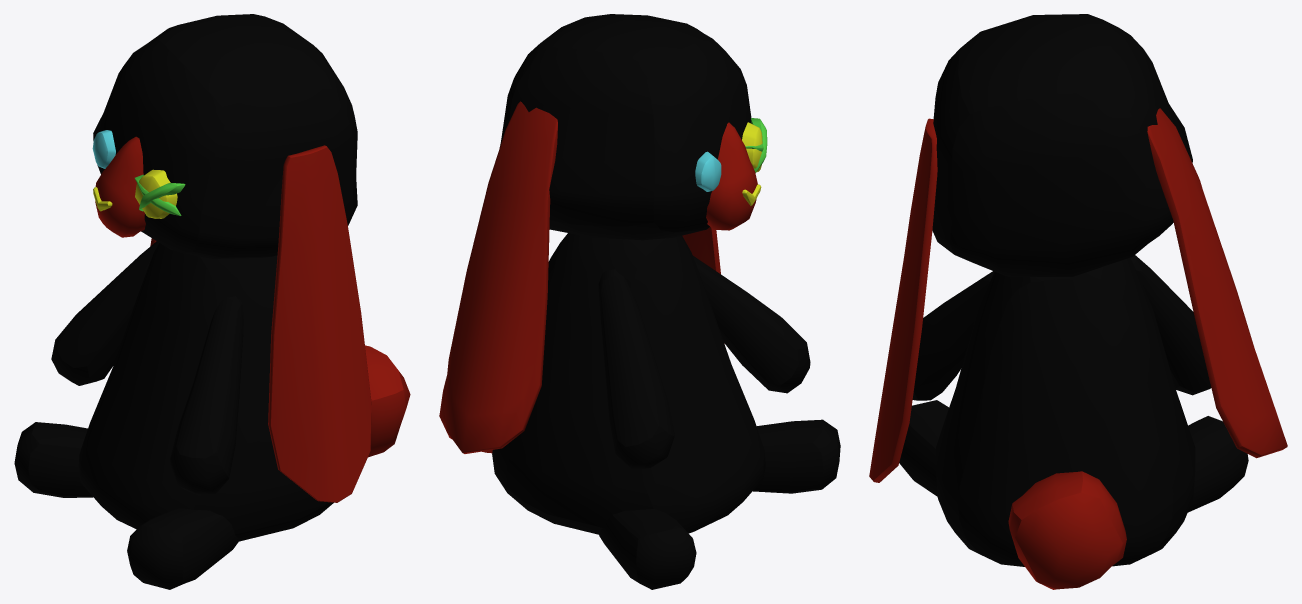
The model's file is SM_PelucheGrande_V1_low.fbx.
3 renders of one model, left to right at view 1: azimuth 30°, elevation 25°; view 2: azimuth 150°, elevation 25°; view 3: azimuth 270°, elevation 25°, orthographic. The views are drawn at different scales.
Parts seen in each view (by area): view 1: SM_PelucheGrande_V1_low; view 2: SM_PelucheGrande_V1_low; view 3: SM_PelucheGrande_V1_low.
Part boxes in pixels (bbox=[...]): SM_PelucheGrande_V1_low: bbox=[14, 14, 410, 589]; SM_PelucheGrande_V1_low: bbox=[439, 14, 840, 589]; SM_PelucheGrande_V1_low: bbox=[869, 14, 1287, 589].
Size of the model in its own units: 218 by 304 by 224.
